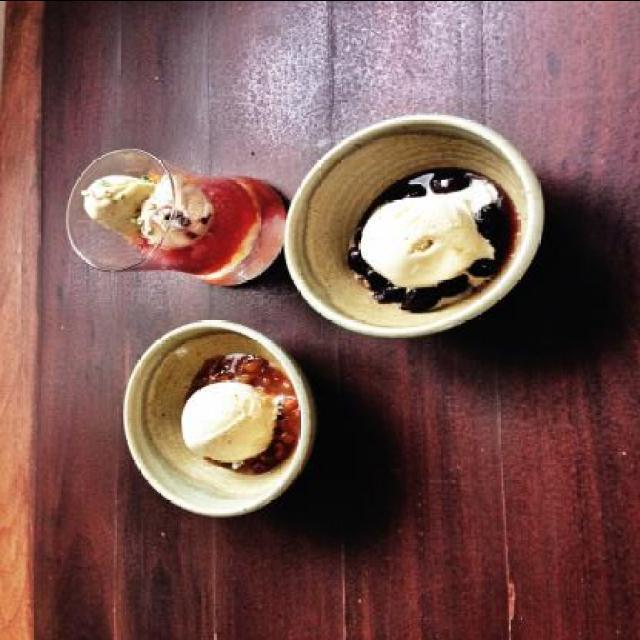Ice cream: (357, 172, 501, 290), (74, 168, 220, 257), (176, 378, 287, 468)
